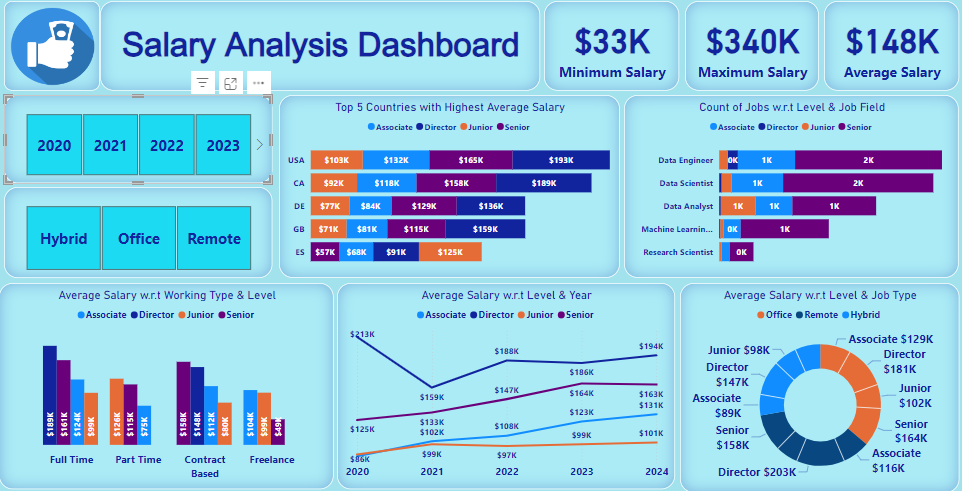

What the dashboard file says about the page in this screenshot:
{"tool":"powerbi","page":{"name":"Page 1","canvas":[1400,720],"ordinal":0},"visuals":[{"type":"textbox","box":[150.1,6.7,638,129.9],"z":0},{"type":"card","fields":{"Values":["Max(clean_salaries.salary_in_usd)"]},"box":[998.4,6.6,194,129.9],"z":1000},{"type":"card","fields":{"Values":["Min(clean_salaries.salary_in_usd)"]},"box":[794.3,6.6,195.7,129.9],"z":2000},{"type":"card","fields":{"Values":["Avg(clean_salaries.salary_in_usd)"]},"box":[1199.4,6.6,195.8,129.6],"z":3000},{"type":"clusteredColumnChart","title":"Average Salary w.r.t Working Type & Level","fields":{"Category":["clean_salaries.employment_type"],"Y":["Avg(clean_salaries.salary_in_usd)"],"Series":["clean_salaries.experience_level"]},"box":[4.4,415.8,485.4,298.9],"z":4000},{"type":"lineChart","title":"Average Salary w.r.t  Level & Year","fields":{"Y":["Avg(clean_salaries.salary_in_usd)"],"Series":["clean_salaries.experience_level"],"Category":["clean_salaries.work_year"]},"box":[494.2,415.8,490,298.9],"z":5000},{"type":"donutChart","title":"Average Salary w.r.t Level & Job Type ","fields":{"Y":["Avg(clean_salaries.salary_in_usd)"],"Category":["clean_salaries.remote_ratio"],"Series":["clean_salaries.experience_level"]},"box":[990.7,416.2,404.6,303.8],"z":6000},{"type":"barChart","title":"Top 5 Countries with Highest Average Salary","fields":{"Y":["Avg(clean_salaries.salary_in_usd)"],"Category":["clean_salaries.company_location"],"Series":["clean_salaries.experience_level"]},"box":[410.4,144,494,265],"z":7000},{"type":"barChart","title":"Average Salary w.r.t Level & Job Field","fields":{"Category":["clean_salaries.job_title"],"Series":["clean_salaries.experience_level"],"Y":["CountNonNull(clean_salaries.job_title)"]},"box":[910.1,144,485.3,265],"z":8000},{"type":"slicer","fields":{"Values":["clean_salaries.remote_ratio"]},"box":[11.5,276.5,388.8,132.5],"z":9000},{"type":"slicer","fields":{"Values":["clean_salaries.work_year"]},"box":[11.5,144,388.8,128.2],"z":10000},{"type":"image","box":[11.8,6.7,139,129.9],"z":11000}]}

Visuals, with their boxes in screenshot pixels (x1, y1, x2, y2), scaled from the page's 1400x720 canvas onto the 962x491 screenshot:
textbox: pyautogui.locateOnScreen(103, 5, 542, 93)
card - Max(clean_salaries.salary_in_usd): pyautogui.locateOnScreen(686, 5, 819, 93)
card - Min(clean_salaries.salary_in_usd): pyautogui.locateOnScreen(546, 5, 680, 93)
card - Avg(clean_salaries.salary_in_usd): pyautogui.locateOnScreen(824, 5, 959, 93)
"Average Salary w.r.t Working Type & Level" clusteredColumnChart: pyautogui.locateOnScreen(3, 284, 337, 487)
"Average Salary w.r.t  Level & Year" lineChart: pyautogui.locateOnScreen(340, 284, 676, 487)
"Average Salary w.r.t Level & Job Type " donutChart: pyautogui.locateOnScreen(681, 284, 959, 490)
"Top 5 Countries with Highest Average Salary" barChart: pyautogui.locateOnScreen(282, 98, 621, 279)
"Average Salary w.r.t Level & Job Field" barChart: pyautogui.locateOnScreen(625, 98, 959, 279)
slicer - clean_salaries.remote_ratio: pyautogui.locateOnScreen(8, 189, 275, 279)
slicer - clean_salaries.work_year: pyautogui.locateOnScreen(8, 98, 275, 186)
image: pyautogui.locateOnScreen(8, 5, 104, 93)
